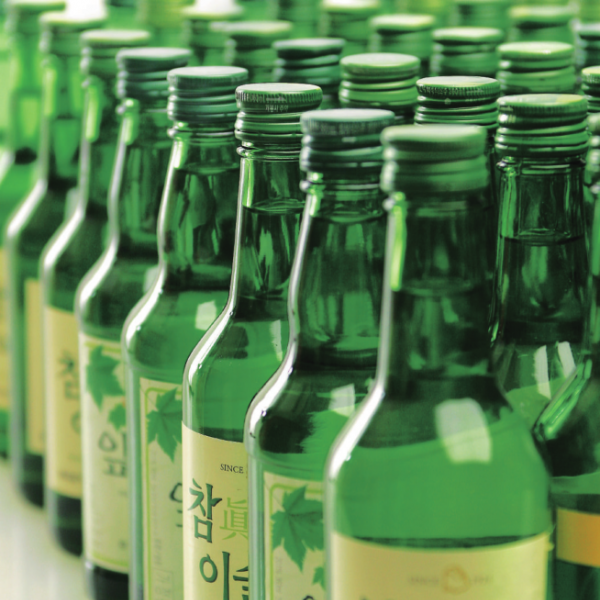soju: (3, 1, 596, 600)
